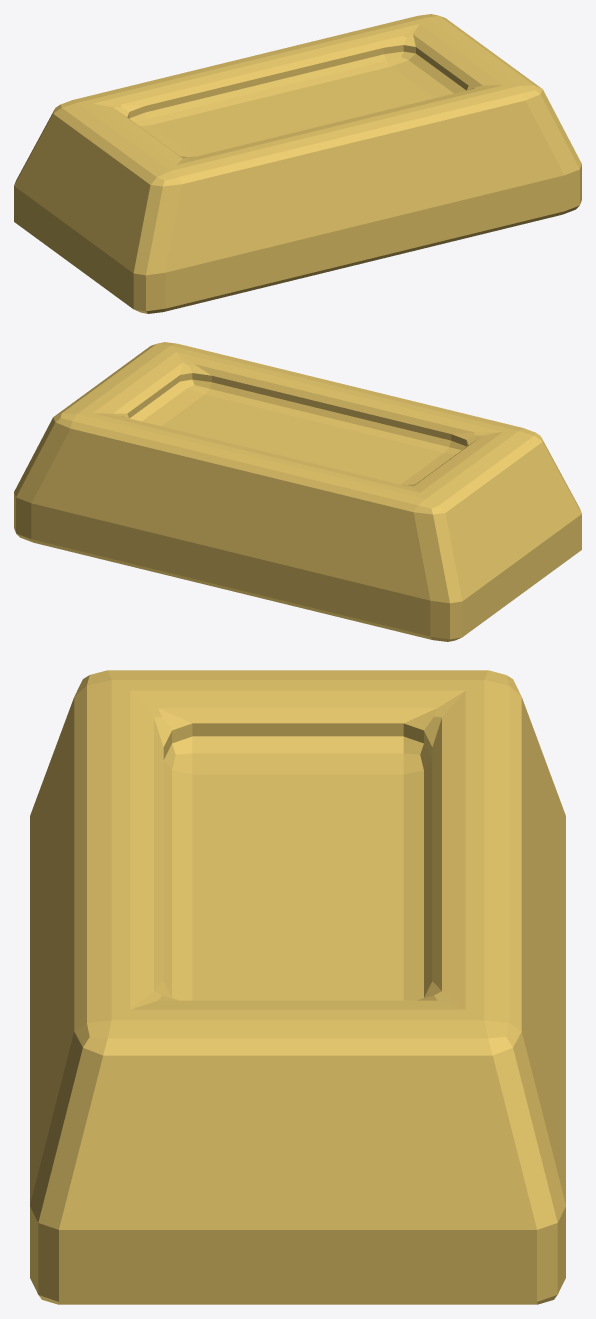
File: lingote.fbx
3 views of the same model, one above another, from view 1: azimuth 30°, elevation 25°; view 2: azimuth 150°, elevation 25°; view 3: azimuth 270°, elevation 25° (orthographic). The views are drawn at different scales.
Visible parts, largest first — view 1: Cube; view 2: Cube; view 3: Cube.
Boxes of the visible parts, bbox=[...] form: Cube: bbox=[14, 14, 581, 313]; Cube: bbox=[14, 342, 581, 641]; Cube: bbox=[30, 670, 565, 1304].
Bounding box in the file's own units: 178 × 46.94 × 92.38.
